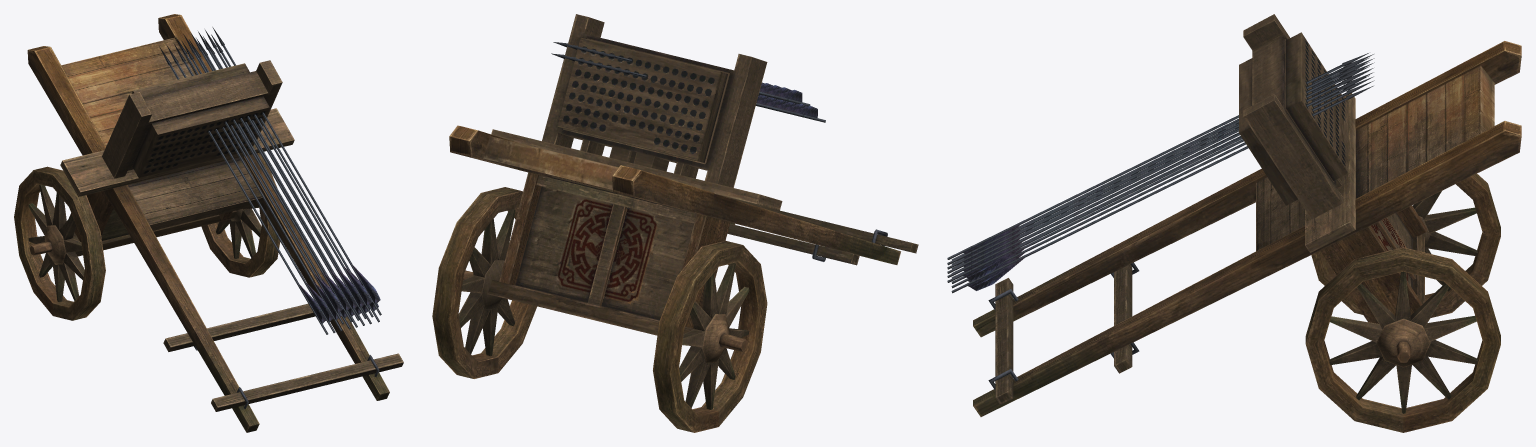
Rendered from weapon_bowcart.glb.
3 views of the same model, side by side, from view 1: azimuth 30°, elevation 25°; view 2: azimuth 150°, elevation 25°; view 3: azimuth 270°, elevation 25° (orthographic). The views are drawn at different scales.
Parts seen in each view (by area): view 1: Object14; view 2: Object14; view 3: Object14.
Boxes of the visible parts, x1,y1,x2,y2 form: Object14: [14, 14, 403, 432]; Object14: [432, 14, 918, 432]; Object14: [947, 14, 1521, 432].
Size of the model in its own units: 2.9 by 3.15 by 4.96.
Materials: 1 (1 with a texture image).
